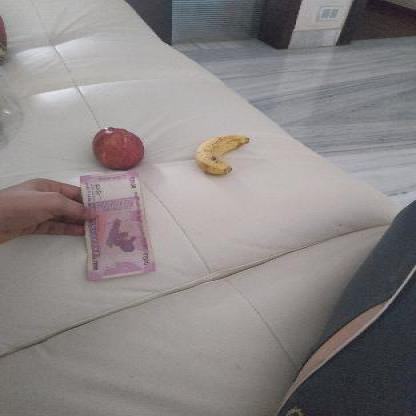New2000Back: (80, 172, 152, 277)
